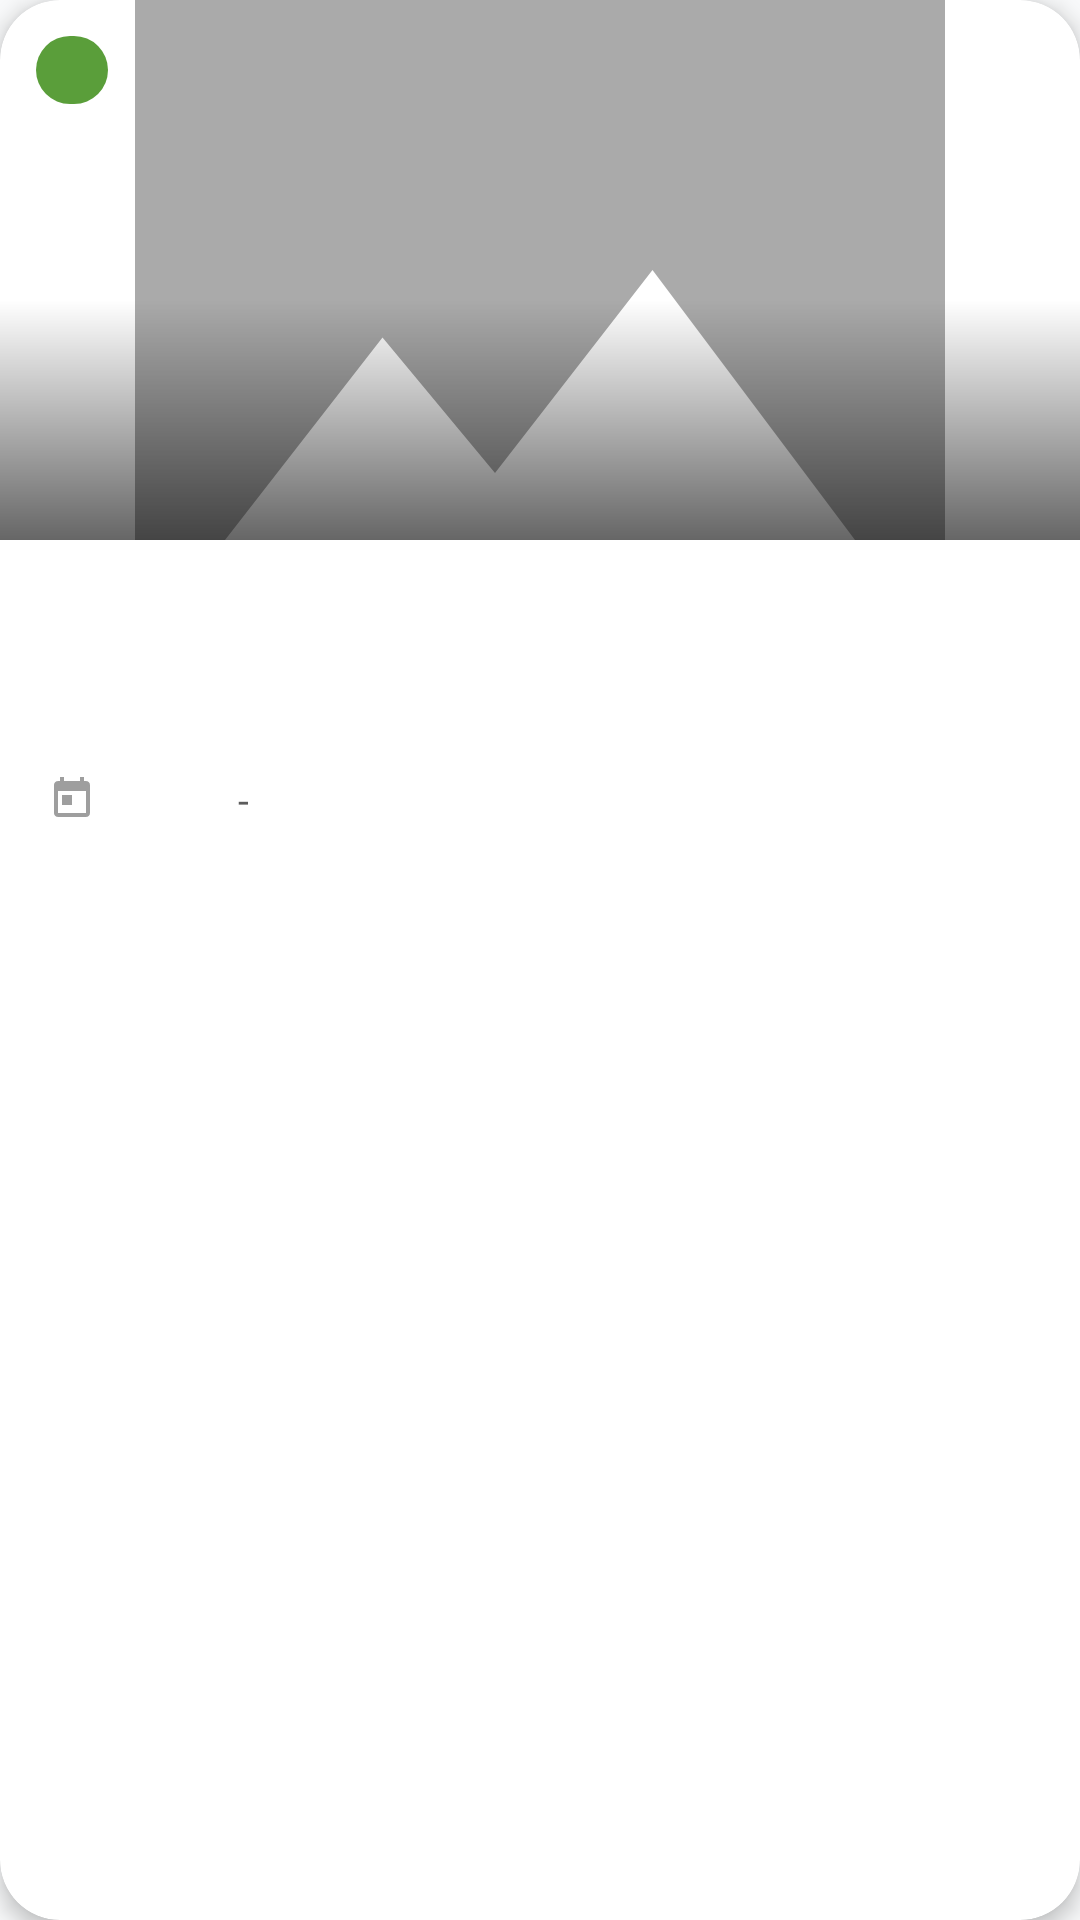

Locate icon controls on the screen. Image size 1080×1920, boxes as (x1, y1, x2, y2).
calendar: (54, 777, 90, 817)
